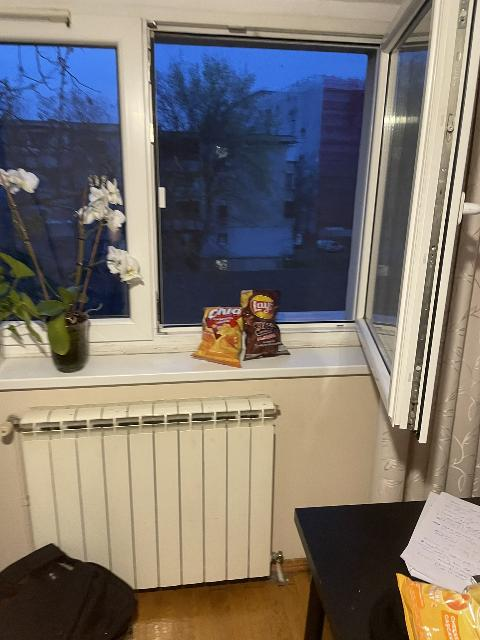Chio Cascaval 125g: (189, 306, 245, 368)
Chio Hula Hoops Cheese 70g: (391, 572, 480, 640)
Lays Beef Grilled Ribs 125g: (239, 290, 290, 361)
